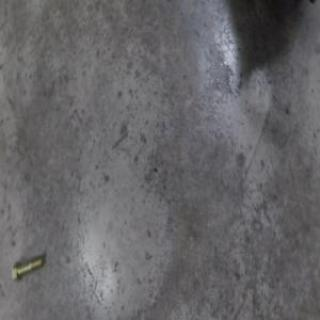Bolttrack_idkeyframe: (15, 251, 45, 279)
